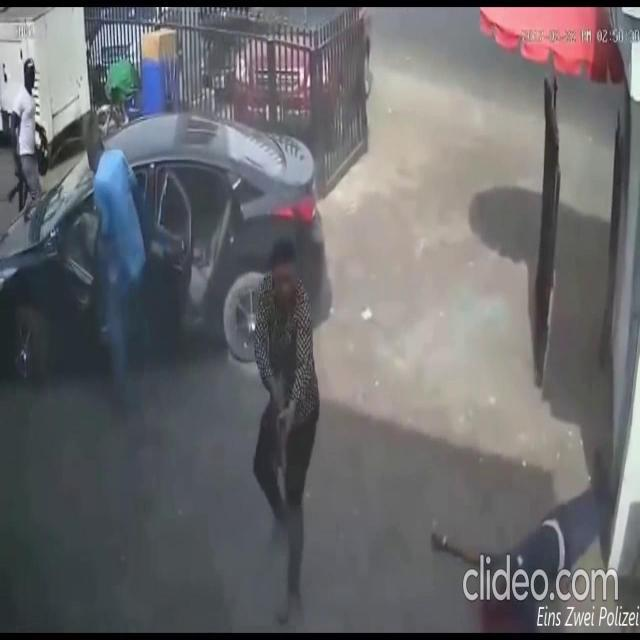pistol: (272, 360, 290, 519), (8, 133, 26, 217)
